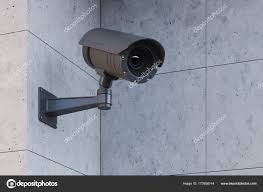CC Camera: (77, 24, 168, 86)
